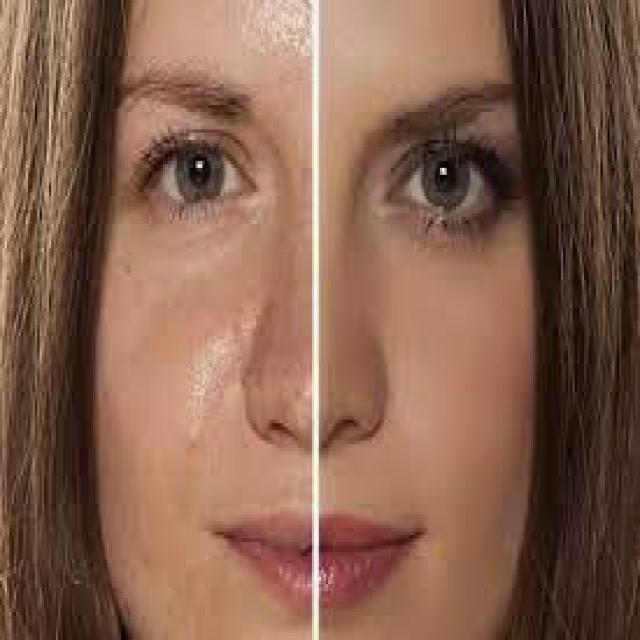oily: (124, 254, 232, 493), (182, 6, 311, 62)
